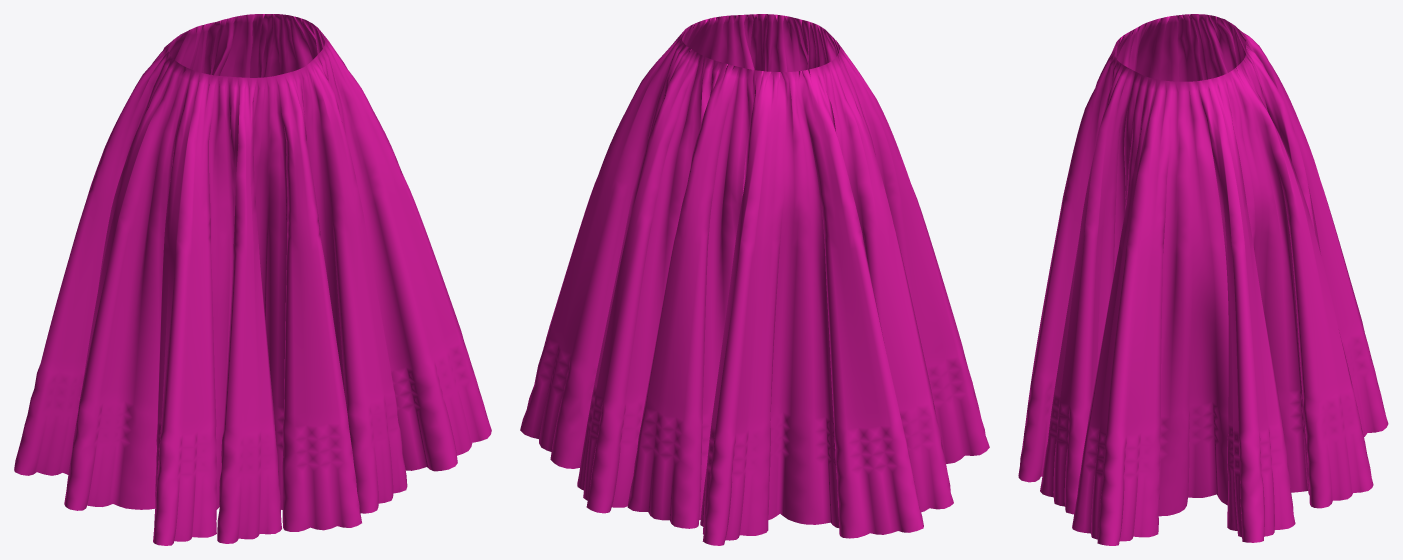
The model's file is skirt_ballerina (1).fbx.
3 views of the same model, side by side, from view 1: azimuth 30°, elevation 25°; view 2: azimuth 150°, elevation 25°; view 3: azimuth 270°, elevation 25° (orthographic). The views are drawn at different scales.
Visible parts, largest first — view 1: Skirt; view 2: Skirt; view 3: Skirt.
Part boxes in pixels (x1=…): Skirt: x1=14, y1=14, x2=491, y2=545; Skirt: x1=520, y1=14, x2=989, y2=545; Skirt: x1=1018, y1=14, x2=1388, y2=545.
Size of the model in its own units: 61.91 by 64.02 by 50.32.
